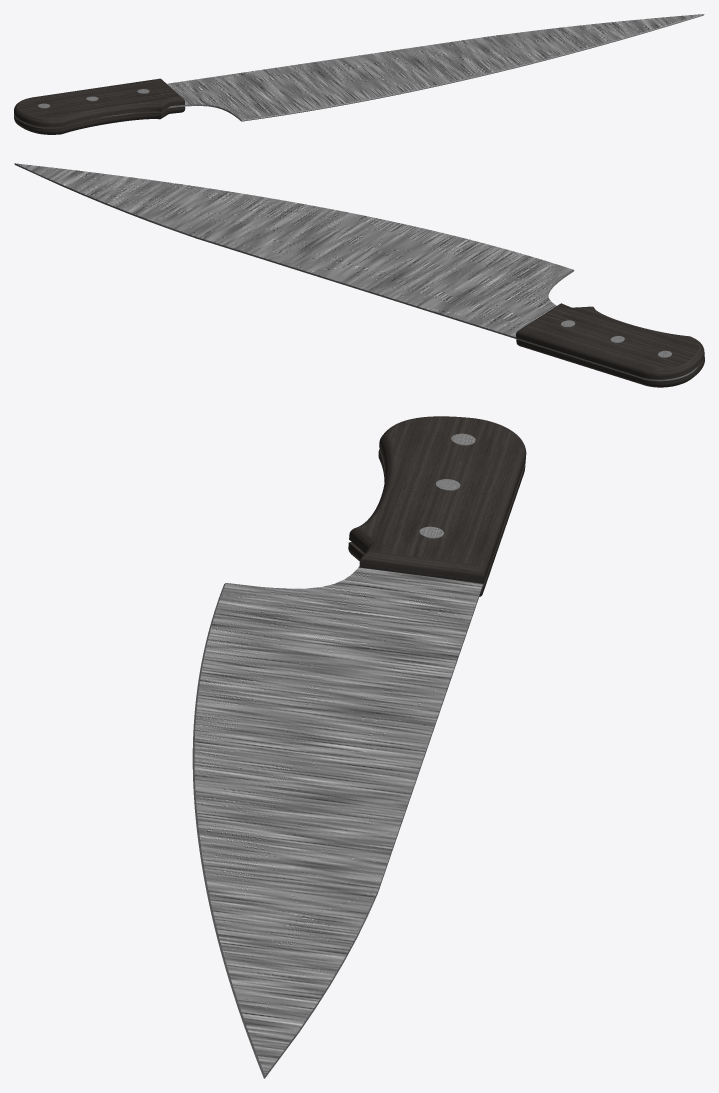
File: cuchillo.dae
3 renders of one model, top to bottom at view 1: azimuth 30°, elevation 25°; view 2: azimuth 150°, elevation 25°; view 3: azimuth 270°, elevation 25°, orthographic. The views are drawn at different scales.
Visible parts, largest first — view 1: node; view 2: node; view 3: node.
Boxes of the visible parts, x1,y1,x2,y2 form: node: (14,14,704,134); node: (14,163,704,387); node: (192,416,526,1078).
Size of the model in its own units: 514 by 18.68 by 117.
Materials: 2 (2 with a texture image).
